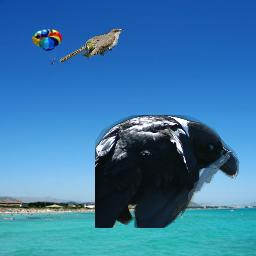Crow: (95, 115, 240, 228)
Cuckoo: (59, 28, 124, 63)
